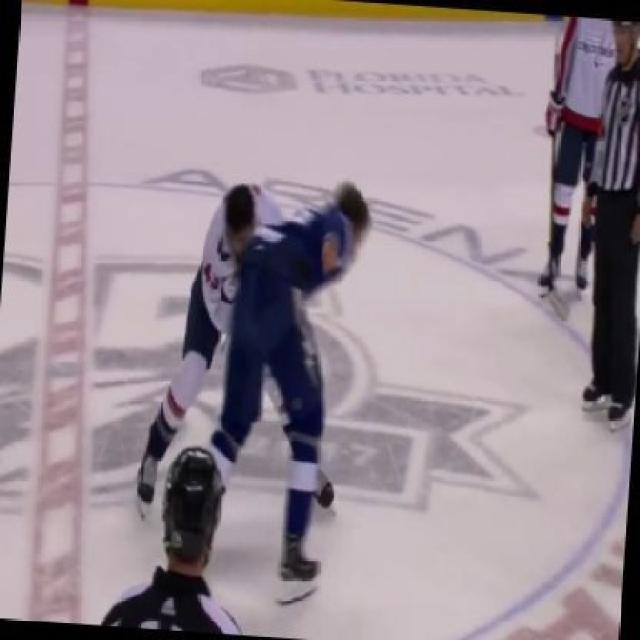fight: (134, 173, 383, 628)
non-fight: (544, 12, 638, 434)
